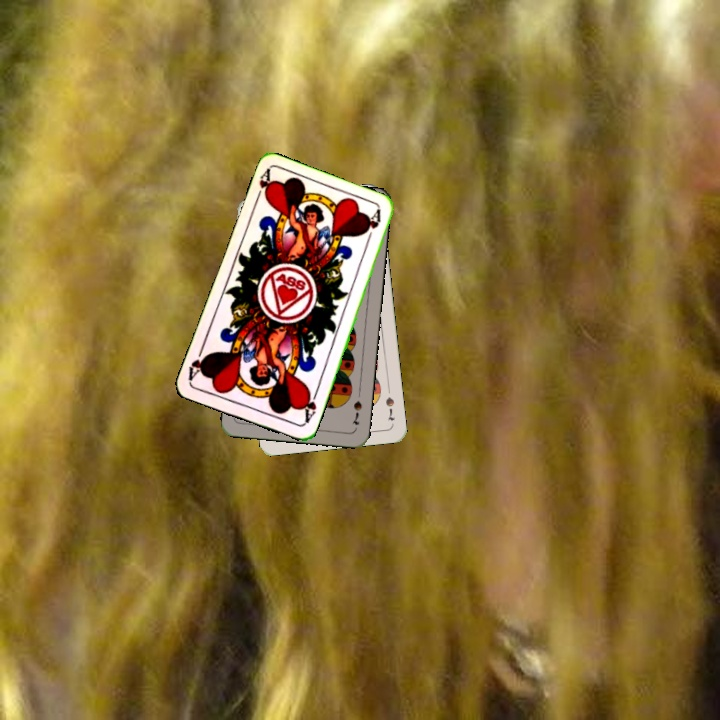HA: (251, 166, 276, 206), (299, 385, 320, 426)
S7: (348, 397, 365, 427), (381, 393, 397, 423)
